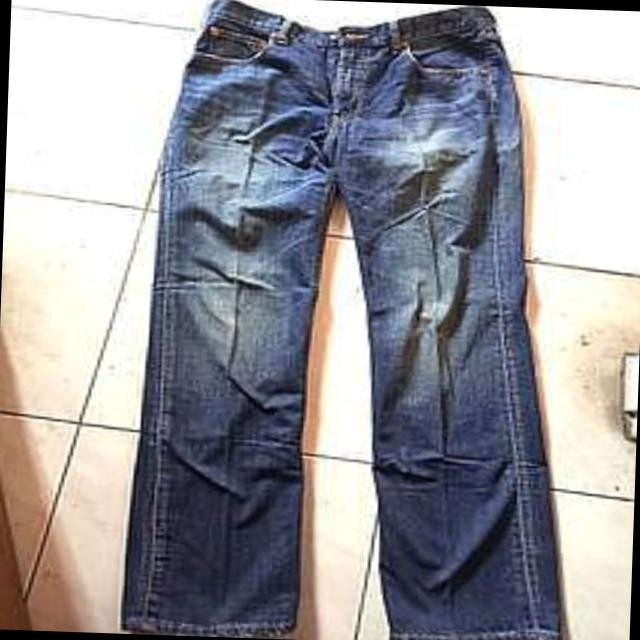TROUSER: (102, 0, 619, 640)
